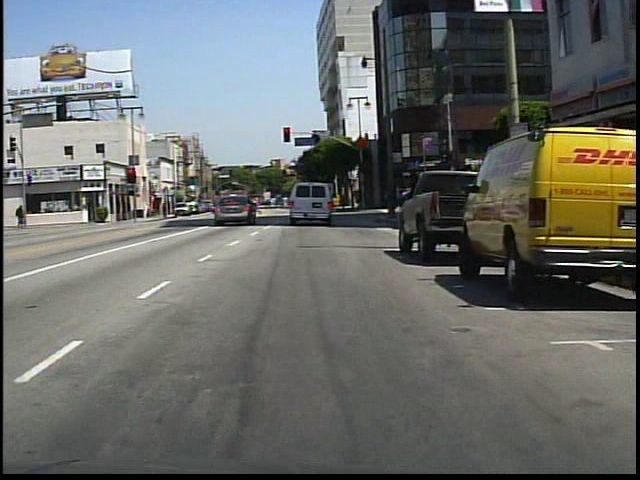person: (287, 190, 305, 222), (14, 202, 26, 229)
